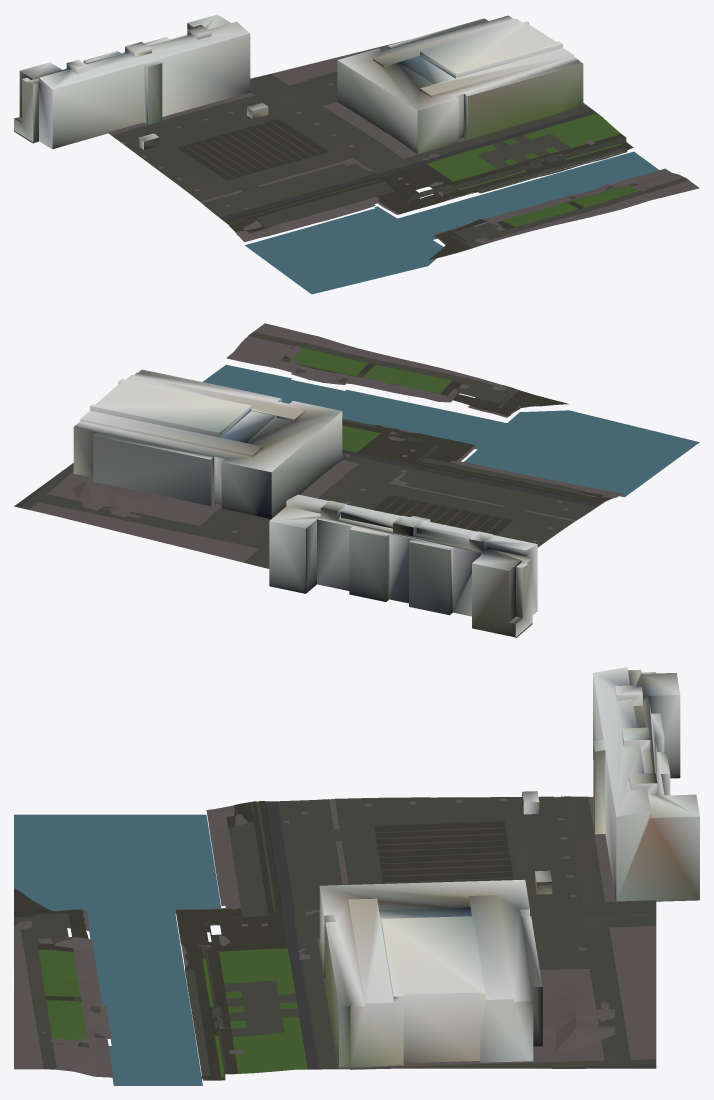
The picture shows the model from 3 angles, top to bottom: view 1: azimuth 30°, elevation 25°; view 2: azimuth 150°, elevation 25°; view 3: azimuth 270°, elevation 25°; orthographic projection. The views are drawn at different scales.
Parts seen in each view (by area): view 1: c_m17_p06; view 2: c_m17_p06; view 3: c_m17_p06.
Part boxes in pixels (x1,y1,x2,y2): c_m17_p06: (14,14,699,294); c_m17_p06: (14,323,699,638); c_m17_p06: (14,667,699,1085).
Bounding box in the file's own units: 150 × 24.41 × 137.
